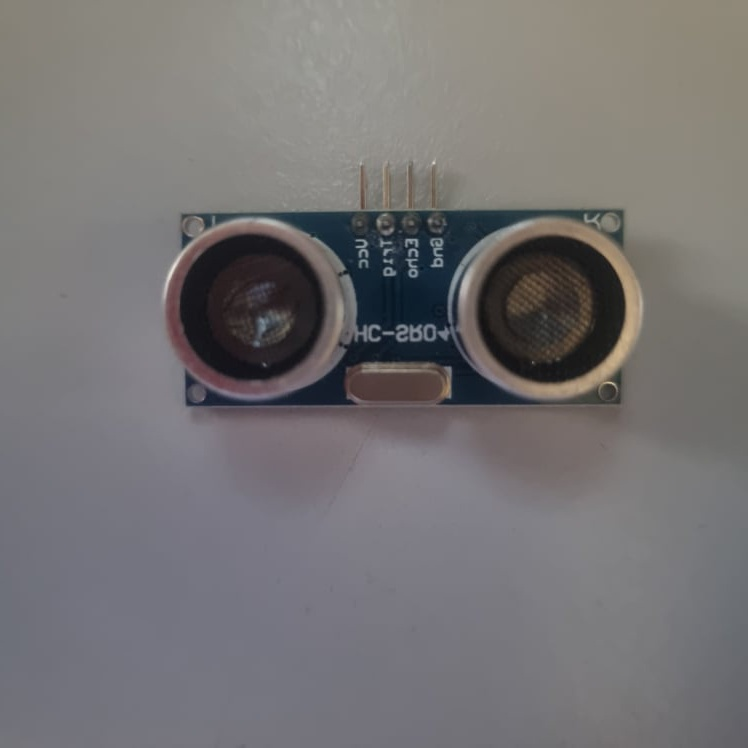SENSOR: (157, 158, 645, 413)
